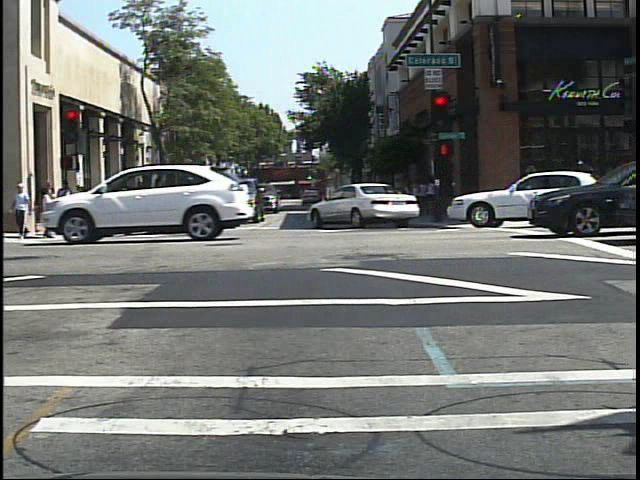person: (112, 180, 132, 224)
